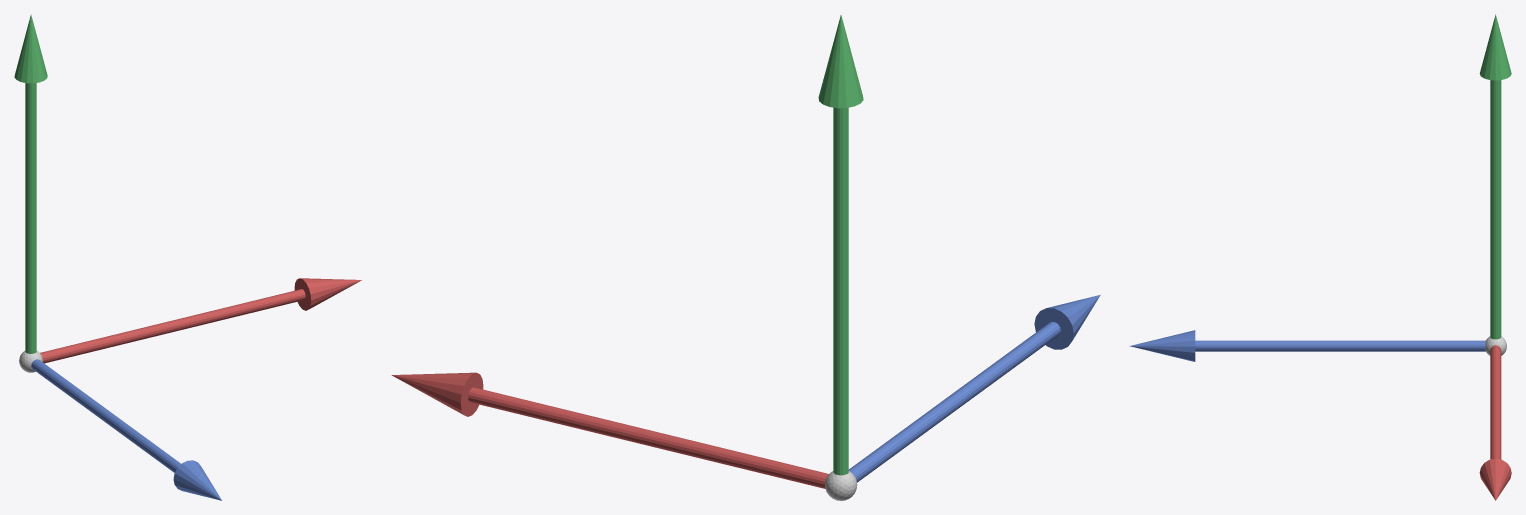
Rendered from axes.glb.
3 views of the same model, side by side, from view 1: azimuth 30°, elevation 25°; view 2: azimuth 150°, elevation 25°; view 3: azimuth 270°, elevation 25° (orthographic). The views are drawn at different scales.
Visible parts, largest first — view 1: geometry_0; view 2: geometry_0; view 3: geometry_0.
Boxes of the visible parts, x1,y1,x2,y2 form: geometry_0: (14, 14, 361, 500); geometry_0: (391, 14, 1100, 500); geometry_0: (1129, 14, 1511, 500).
Bounding box in the file's own units: 83.5 × 83.5 × 83.5.
